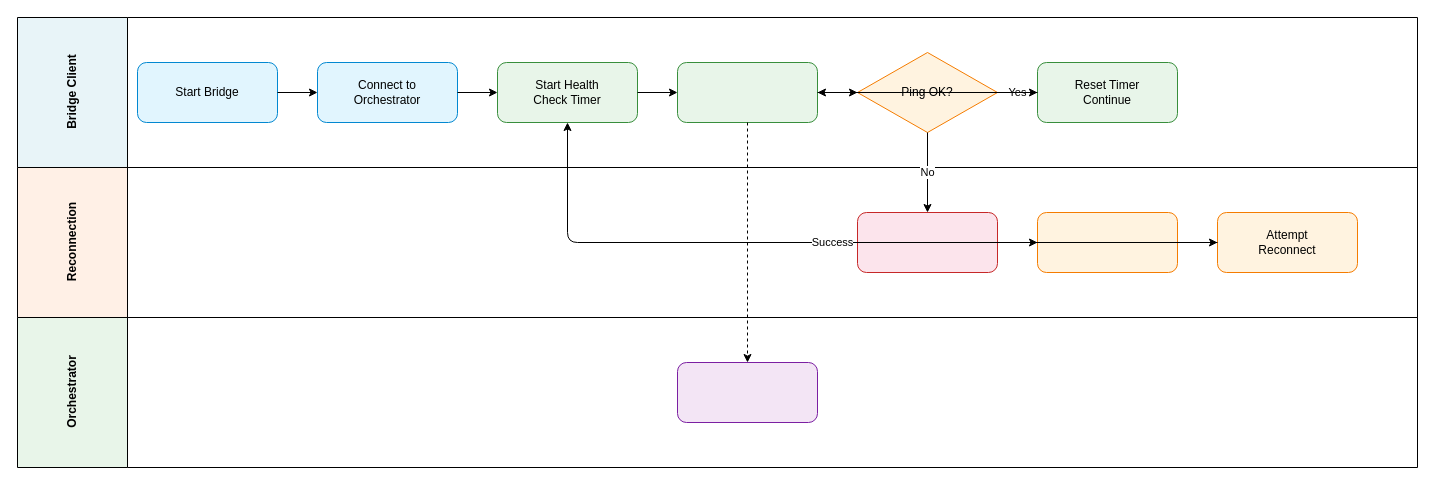
Image size: 1435x485. Some labels were removed from this diagram. The centre of each missing label's shape, as x and y in pixels:
Receive Ping Respond: pixel 747 392
Send Ping (JSON-RPC): pixel 747 92
State: DISCONNECTED: pixel 927 242
Wait Backoff (exp delay): pixel 1107 242
